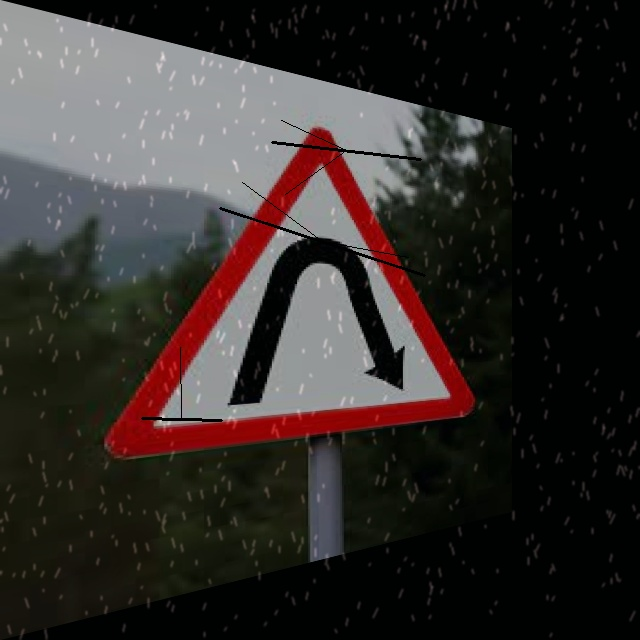Right_Hair_Pin_Bend: (110, 87, 470, 454)
